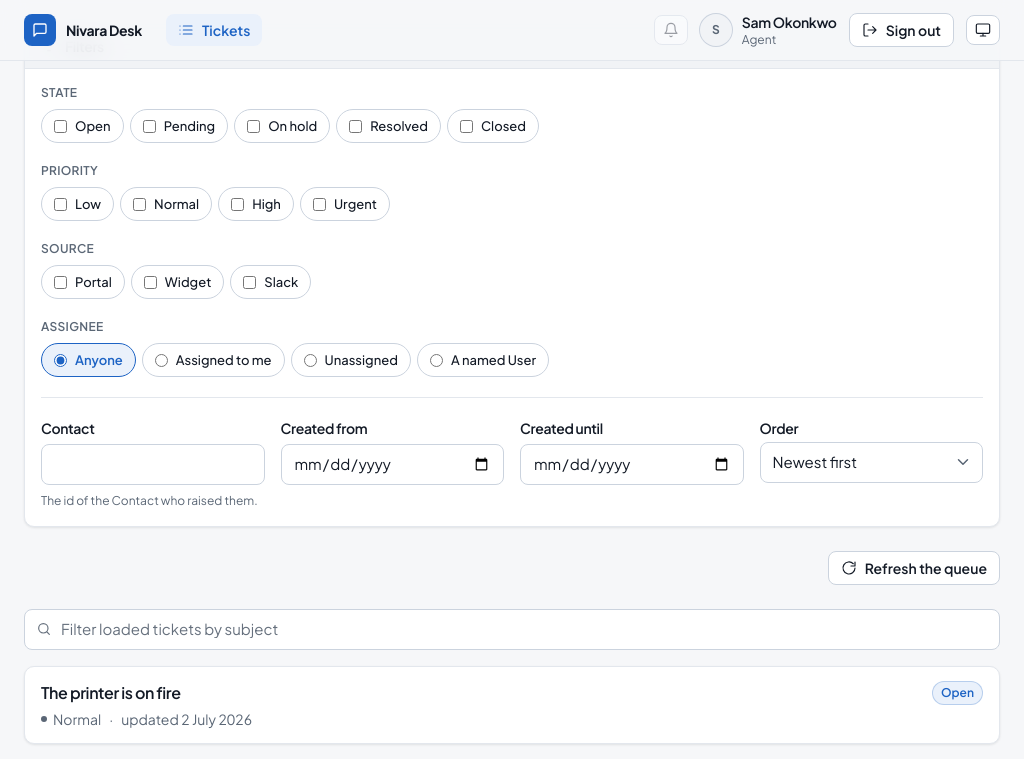
it: internal notes › reads them in the conversation, in the order everything was said
(page scrolled)
Click the button "The printer is on fire Normal · updated 2 July 2026 Open" at (111,692), box [25, 666, 999, 742]
(page scrolled)
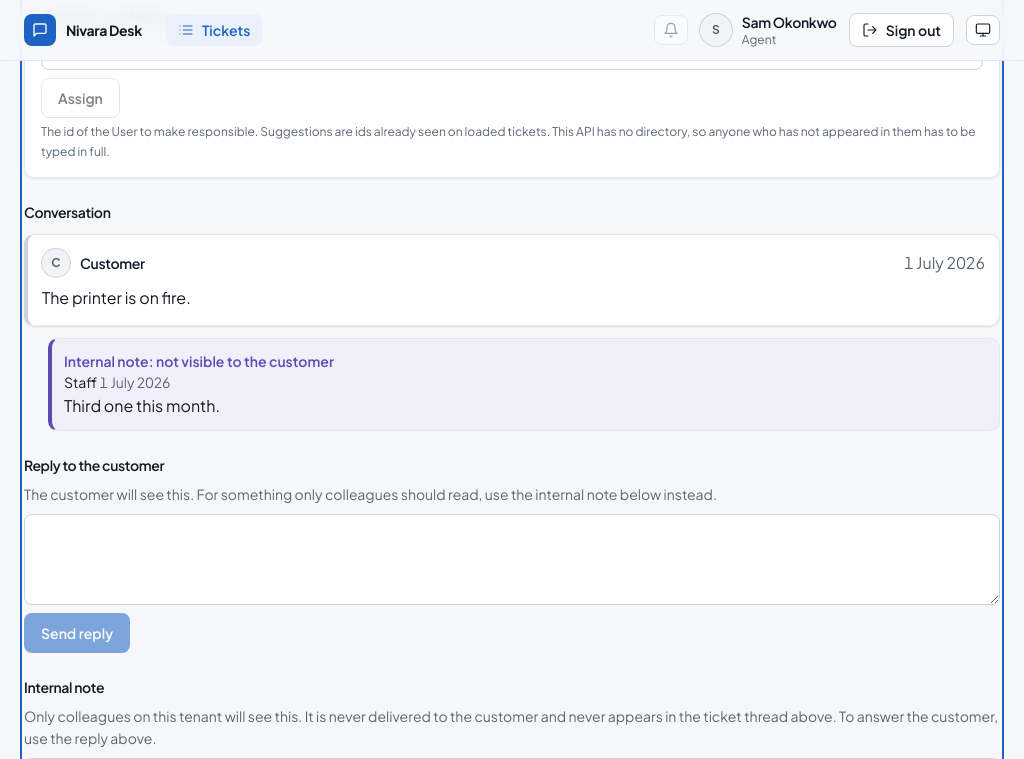
Check: the list item "C Customer 1 July 2026 The printer is on fire." is shown, box [24, 234, 1000, 326]
Check: the 2nd list item shows "Third one this month.", box [64, 395, 220, 416]
